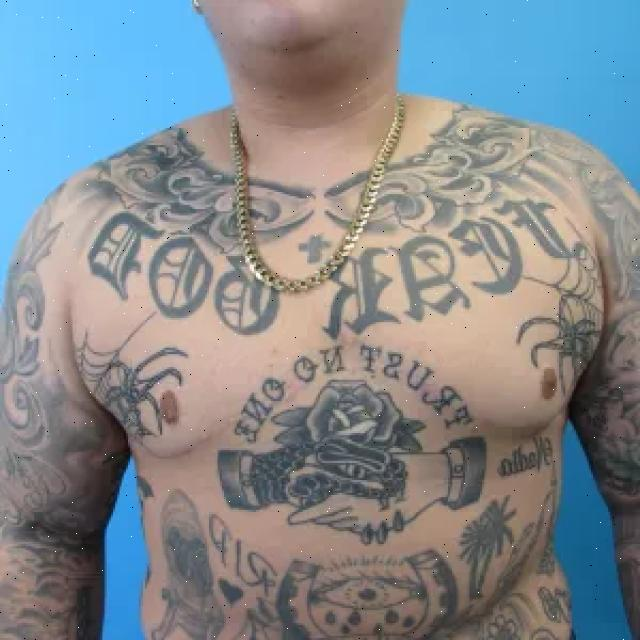Seno ileso: (412, 299, 596, 457), (90, 312, 274, 470)
